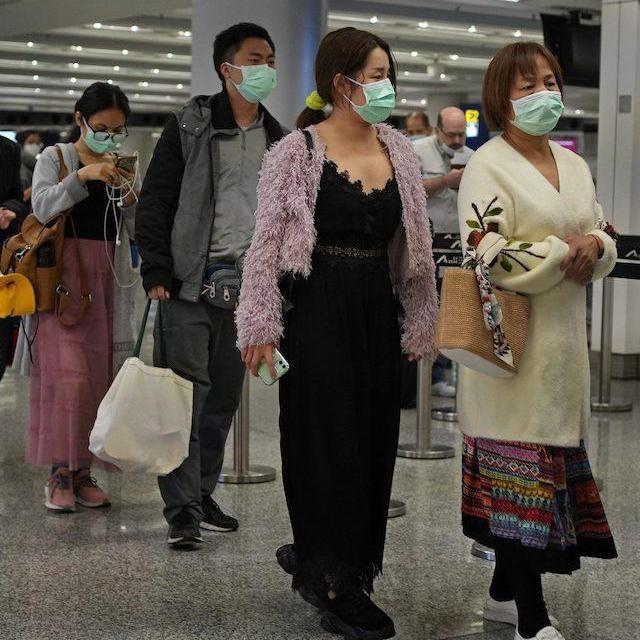Mask: (511, 90, 565, 136), (353, 78, 396, 126), (237, 64, 277, 103), (84, 130, 121, 156), (22, 142, 43, 156), (438, 142, 458, 155), (407, 132, 426, 140)
NO-Hardhat: (436, 105, 466, 126), (406, 110, 430, 124)
NO-Safety Vest: (472, 142, 588, 332), (287, 128, 404, 291), (187, 108, 281, 278), (47, 149, 119, 237), (418, 141, 472, 228)
Person: (239, 27, 416, 640), (457, 39, 616, 640), (136, 22, 289, 556), (30, 82, 141, 505), (418, 105, 473, 231), (16, 132, 41, 197), (403, 107, 431, 142)
